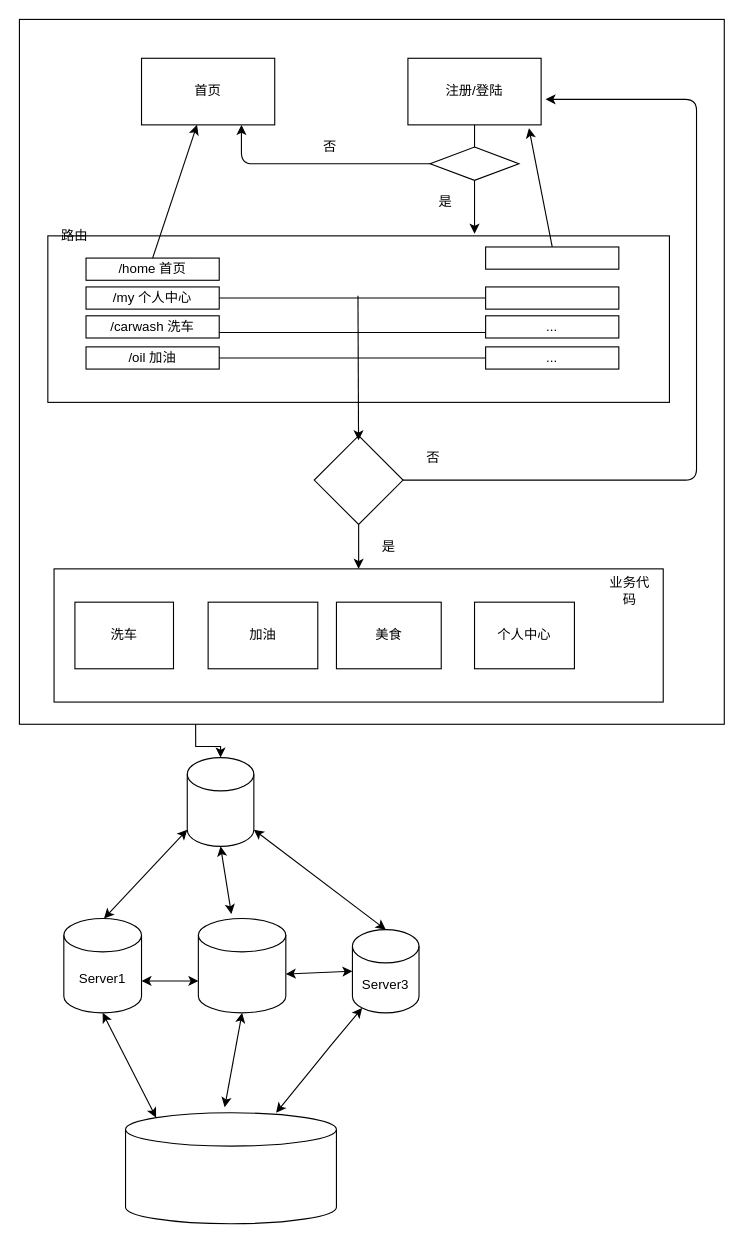
This 744x1243 diagram has some shape labels left out. Here are the shapes that lost their labels. From the top down, the box of each, then its label:
(429, 146, 519, 180): 匹配路由
(485, 246, 619, 269): /login 登陆/注册
(485, 286, 619, 309): /food 美食
(313, 435, 403, 524): 权限认证
(186, 756, 254, 846): server
(197, 917, 286, 1013): Server2
(124, 1112, 336, 1224): dataBase
